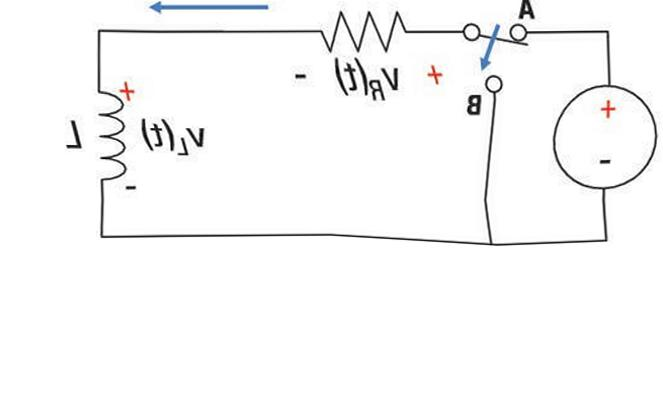Battery: (536, 63, 662, 201)
